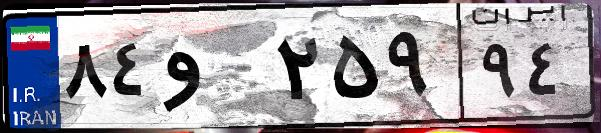2: (270, 28, 330, 110)
4: (525, 38, 570, 115), (110, 28, 158, 98)
5: (330, 28, 385, 110)
8: (57, 26, 110, 100)
9: (385, 28, 445, 110), (475, 38, 525, 113)
و: (158, 20, 270, 120)
